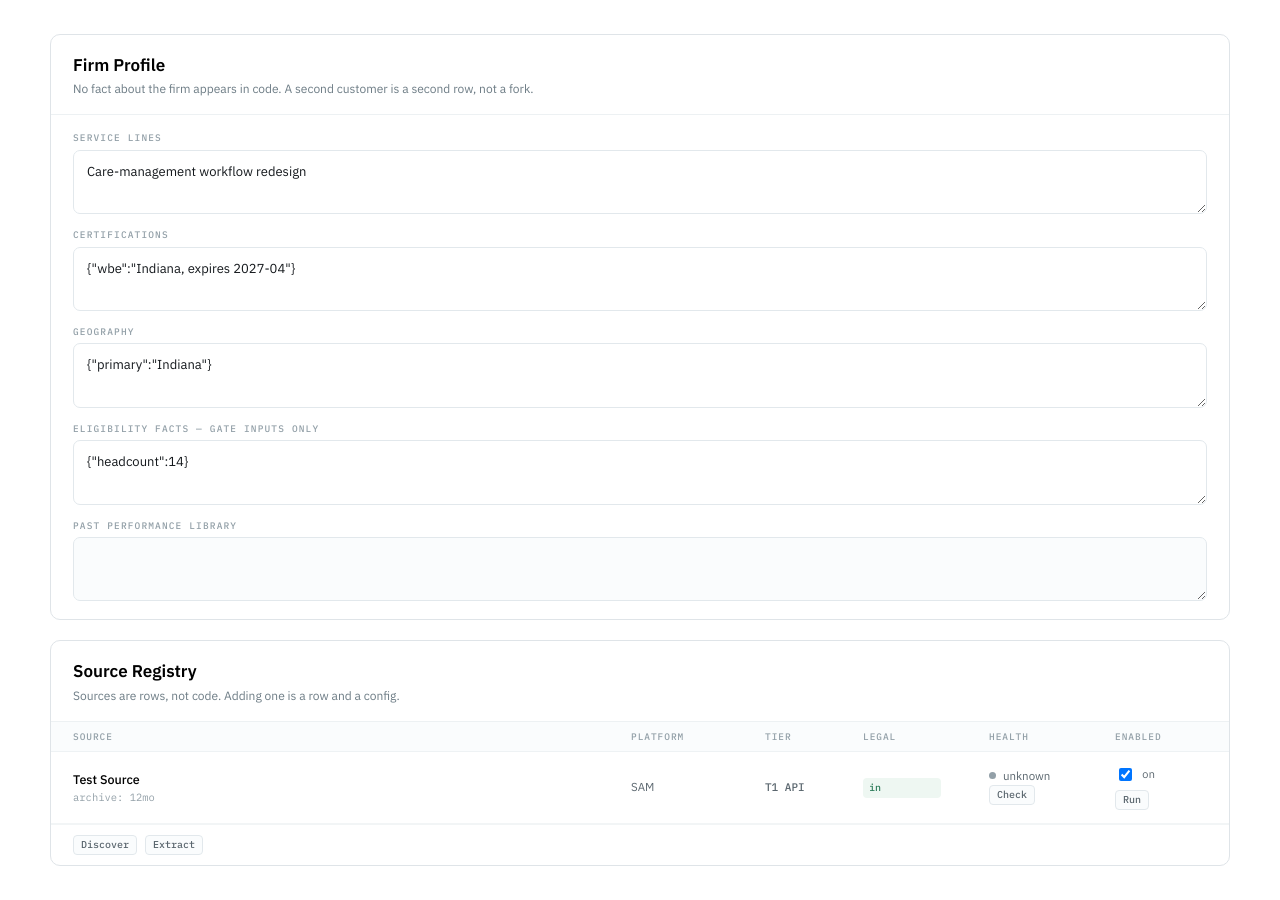
Discover is a separate control, and posts to its own endpoint
This screenshot has width=1280, height=900.
Click the button with aria-label "discover attachments" at (105, 845), box x1=73 y1=835 x2=137 y2=855
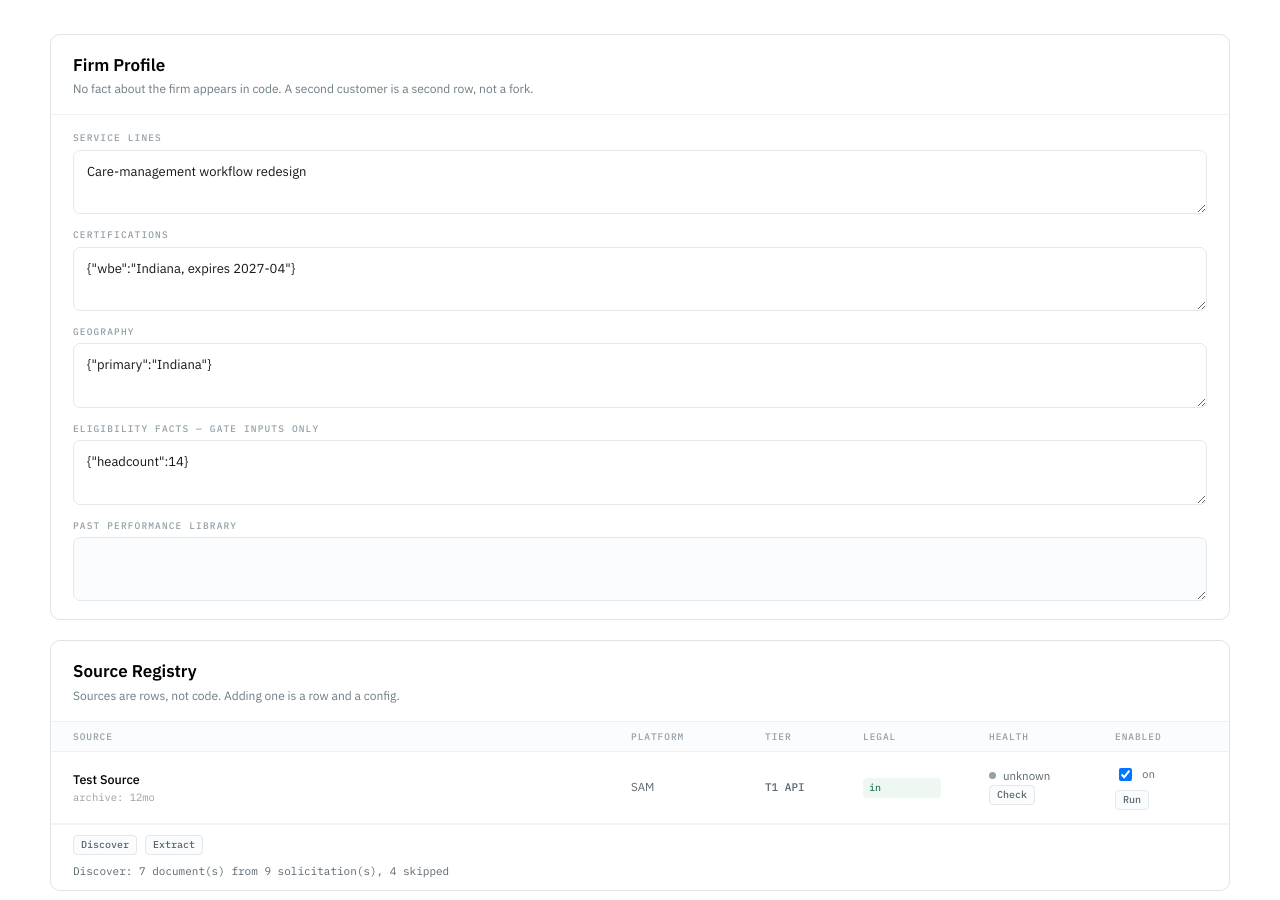
Now the text "Discover: 7 document(s) from 9 solicitation(s), 4 skipped" is shown, box x1=73 y1=864 x2=449 y2=878
